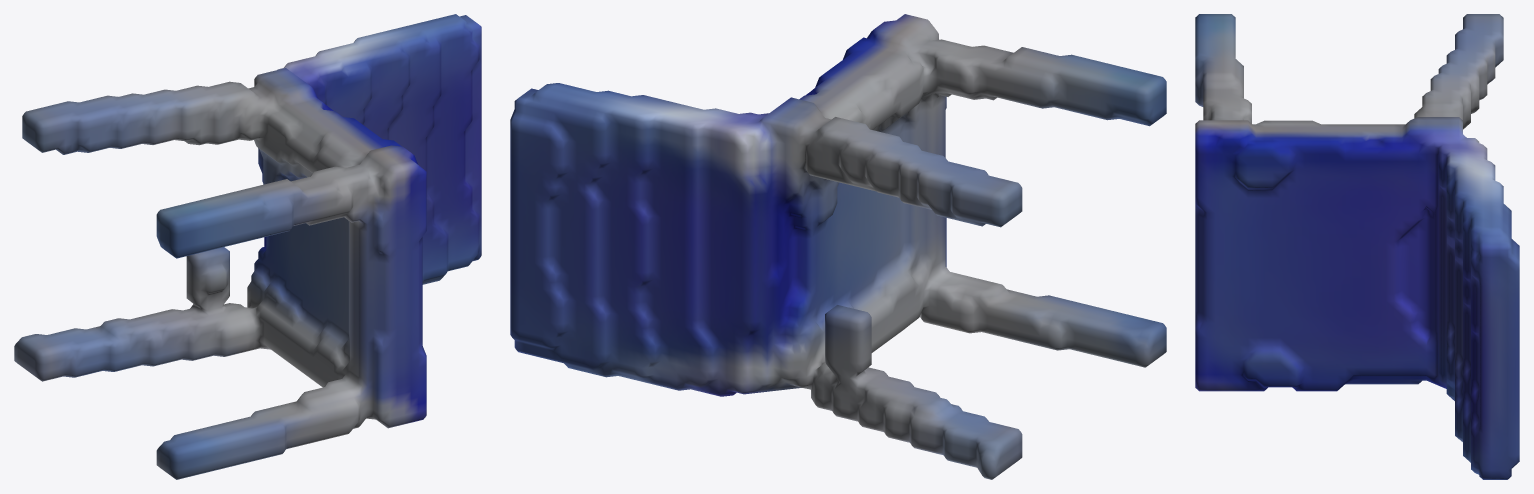
File: A modern blue colored chair with no armrest..glb
3 renders of one model, left to right at view 1: azimuth 30°, elevation 25°; view 2: azimuth 150°, elevation 25°; view 3: azimuth 270°, elevation 25°, orthographic. The views are drawn at different scales.
Visible parts, largest first — view 1: A modern blue colored chair with no armrest.; view 2: A modern blue colored chair with no armrest.; view 3: A modern blue colored chair with no armrest..
Boxes of the visible parts, x1=… form: A modern blue colored chair with no armrest.: x1=14, y1=14, x2=481, y2=479; A modern blue colored chair with no armrest.: x1=510, y1=14, x2=1166, y2=479; A modern blue colored chair with no armrest.: x1=1195, y1=14, x2=1519, y2=479.
Size of the model in its own units: 64 by 35 by 40.
